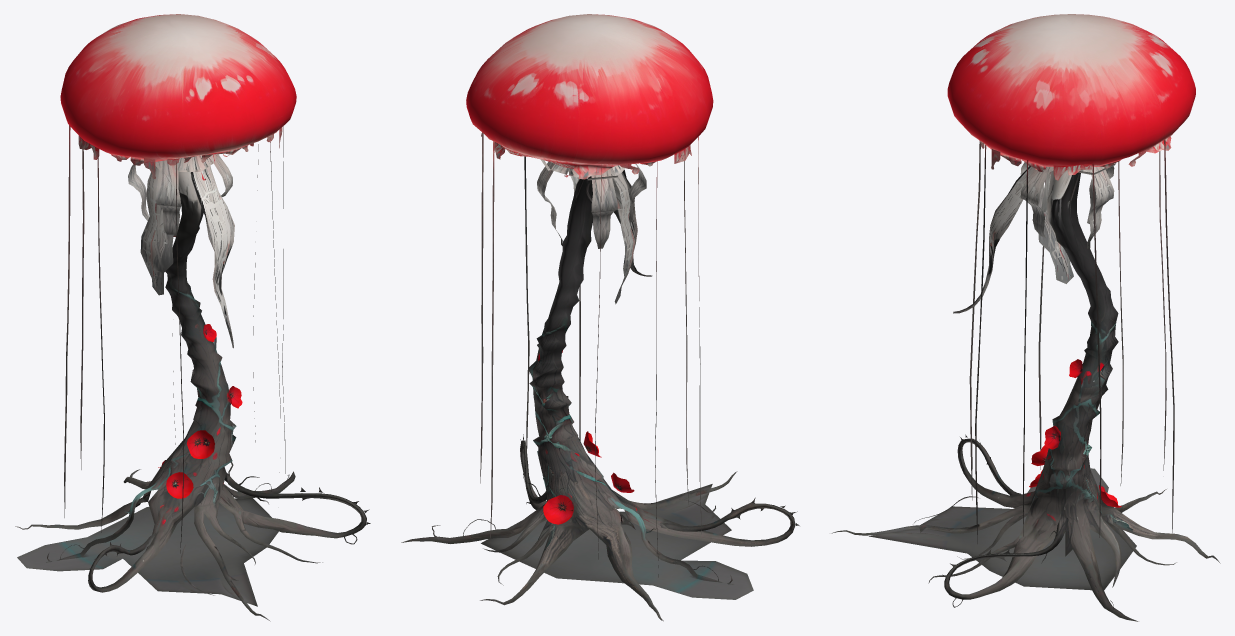
File: jellyfish_stalk_rtp.glb
3 views of the same model, side by side, from view 1: azimuth 30°, elevation 25°; view 2: azimuth 150°, elevation 25°; view 3: azimuth 270°, elevation 25° (orthographic). The views are drawn at different scales.
Visible parts, largest first — view 1: tripo_node_c090eaa3-e56b-4b0e-bf39-a37bb8045654; view 2: tripo_node_c090eaa3-e56b-4b0e-bf39-a37bb8045654; view 3: tripo_node_c090eaa3-e56b-4b0e-bf39-a37bb8045654.
Boxes of the visible parts, x1,y1,x2,y2 form: tripo_node_c090eaa3-e56b-4b0e-bf39-a37bb8045654: (15, 14, 370, 621); tripo_node_c090eaa3-e56b-4b0e-bf39-a37bb8045654: (401, 14, 799, 621); tripo_node_c090eaa3-e56b-4b0e-bf39-a37bb8045654: (831, 14, 1220, 621).
Size of the model in its own units: 0.6274 by 0.9995 by 0.6802.
1 material, 1 textured.
